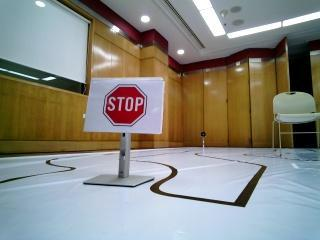stop: (87, 81, 165, 135)
